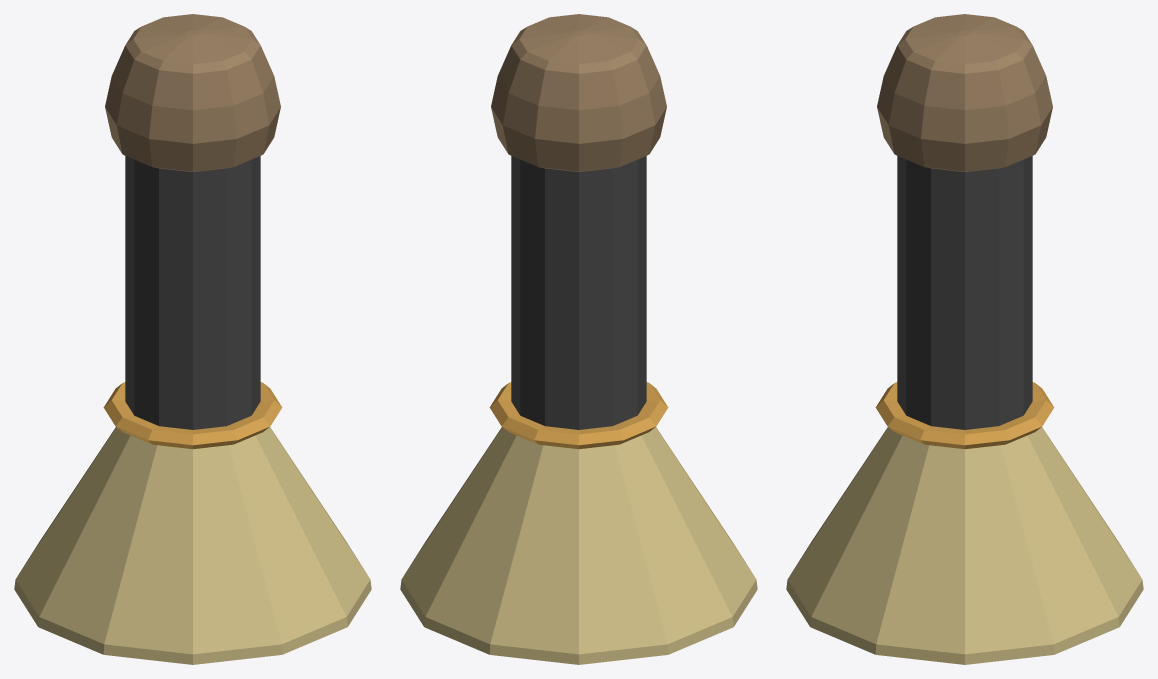
File: Shaving Brush.fbx
3 views of the same model, side by side, from view 1: azimuth 30°, elevation 25°; view 2: azimuth 150°, elevation 25°; view 3: azimuth 270°, elevation 25° (orthographic).
Parts seen in each view (by area): view 1: Shaving Brush; view 2: Shaving Brush; view 3: Shaving Brush.
Boxes of the visible parts, x1,y1,x2,y2 form: Shaving Brush: (14,14,371,664); Shaving Brush: (400,14,757,664); Shaving Brush: (786,14,1143,664).
Size of the model in its own units: 52.77 by 92.58 by 52.77.
